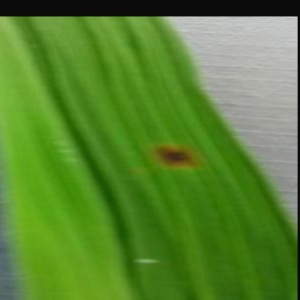Bacterial_Leaf_Blight: (147, 128, 208, 182), (129, 247, 167, 272)
